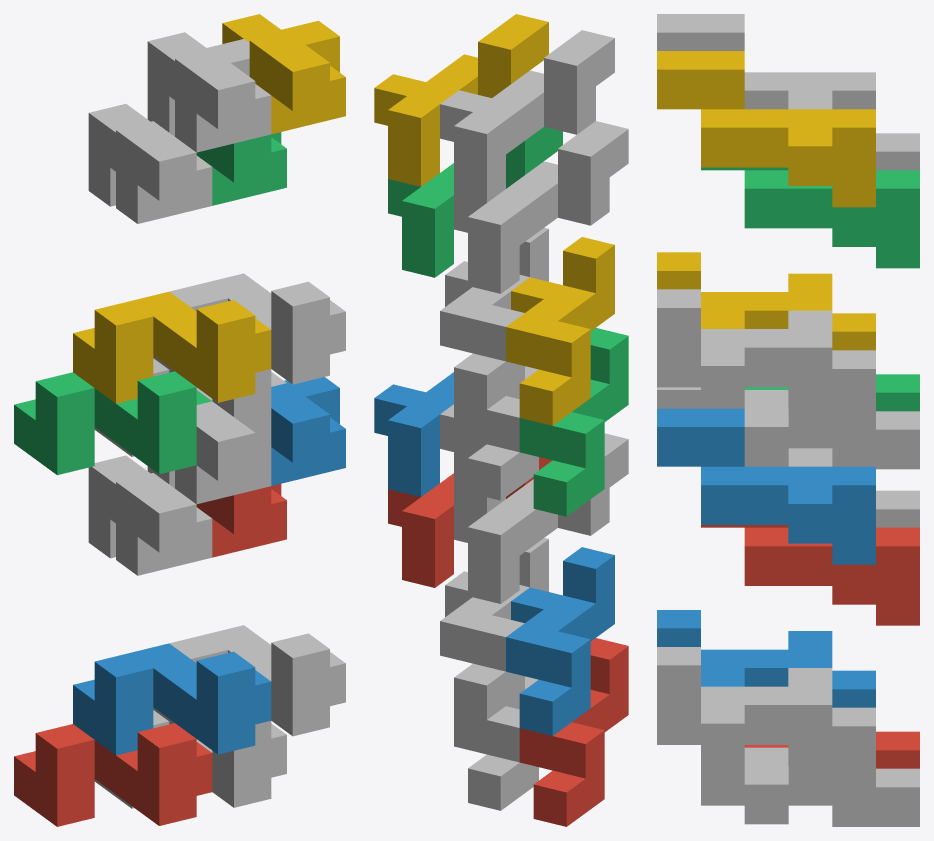
Rendered from tiling.obj.
The picture shows the model from 3 angles, left to right: view 1: azimuth 30°, elevation 25°; view 2: azimuth 150°, elevation 25°; view 3: azimuth 270°, elevation 25°; orthographic projection. The views are drawn at different scales.
Parts seen in each view (by area): view 1: copy_1_domain_4, copy_1_domain_2, copy_1_domain_1, copy_1_domain_3, copy_2_domain_4, copy_2_domain_3, copy_2_domain_1, copy_2_domain_8, copy_1_domain_6, copy_1_domain_8, copy_2_domain_6, copy_2_domain_2 (+4 smaller); view 2: copy_2_domain_4, copy_2_domain_3, copy_1_domain_4, copy_1_domain_2, copy_2_domain_8, copy_1_domain_1, copy_1_domain_3, copy_2_domain_1, copy_1_domain_8, copy_1_domain_6, copy_2_domain_7, copy_2_domain_6 (+4 smaller); view 3: copy_2_domain_6, copy_2_domain_8, copy_1_domain_8, copy_1_domain_6, copy_1_domain_5, copy_2_domain_7, copy_2_domain_5, copy_1_domain_7, copy_1_domain_2, copy_1_domain_4, copy_2_domain_4, copy_2_domain_2 (+4 smaller).
Boxes of the visible parts, x1,y1,x2,y2 form: copy_1_domain_4: (73, 291, 271, 403); copy_1_domain_2: (73, 643, 271, 755); copy_1_domain_1: (14, 723, 212, 826); copy_1_domain_3: (14, 371, 211, 475); copy_2_domain_4: (147, 32, 271, 152); copy_2_domain_3: (88, 104, 212, 223); copy_2_domain_1: (88, 455, 212, 575); copy_2_domain_8: (222, 14, 345, 134); copy_1_domain_6: (153, 625, 345, 736); copy_1_domain_8: (153, 273, 345, 384); copy_2_domain_6: (271, 377, 345, 485); copy_2_domain_2: (147, 401, 271, 504); copy_2_domain_4: (440, 30, 614, 202); copy_2_domain_3: (454, 121, 628, 293); copy_1_domain_4: (506, 237, 614, 425); copy_1_domain_2: (506, 547, 614, 735); copy_2_domain_8: (374, 14, 548, 186); copy_1_domain_1: (519, 638, 628, 826); copy_1_domain_3: (519, 328, 628, 516); copy_2_domain_1: (454, 433, 628, 603); copy_1_domain_8: (440, 227, 548, 409); copy_1_domain_6: (440, 538, 548, 719); copy_2_domain_7: (388, 127, 562, 277); copy_2_domain_6: (374, 372, 453, 496); copy_2_domain_6: (657, 408, 875, 564); copy_2_domain_8: (657, 51, 875, 207); copy_1_domain_8: (657, 289, 875, 408); copy_1_domain_6: (657, 647, 875, 765); copy_1_domain_5: (701, 747, 919, 826); copy_2_domain_7: (701, 167, 919, 268); copy_2_domain_5: (701, 525, 919, 625); copy_1_domain_7: (701, 390, 919, 469); copy_1_domain_2: (657, 610, 875, 707); copy_1_domain_4: (657, 252, 875, 350); copy_2_domain_4: (657, 14, 875, 109); copy_2_domain_2: (657, 387, 875, 466).
Size of the model in its own units: 7 by 20 by 6.
